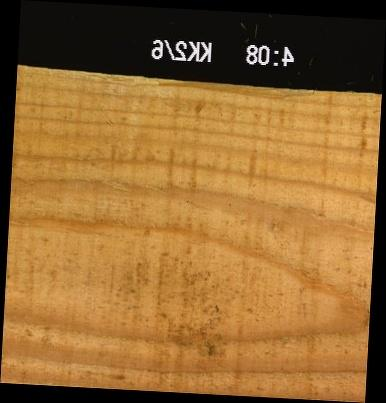wave: (131, 80, 352, 93)
